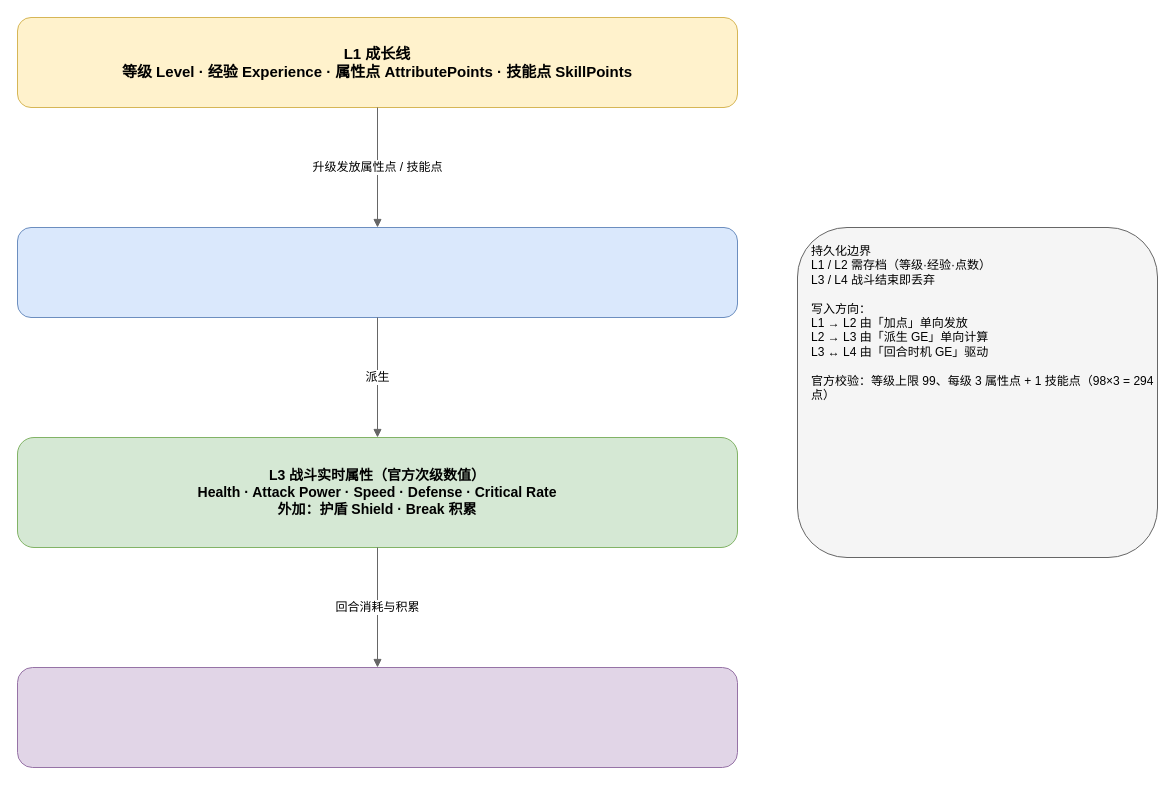
This 1175x785 diagram has some shape labels left out. The shapes that lost their labels are listed below. From the top down, each one's centre as x and y in pixels, then its label:
pixel 377 272: L2 加点属性 活力 Vitality · 力量 Might · 敏捷 Agility · 防御 Defense · 运气 Luck
pixel 377 717: L4 战斗节奏资源 AP（每角色独立） | Gradient（全队共享） | Break（敌人）
